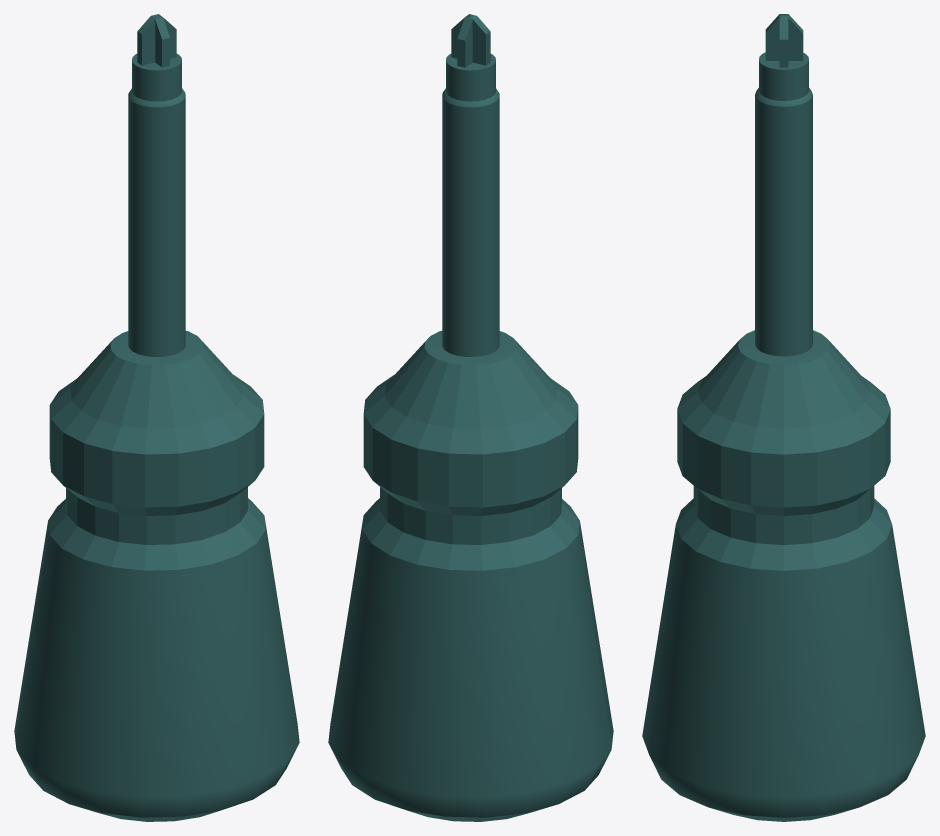
Rendered from mini low.fbx.
3 views of the same model, side by side, from view 1: azimuth 30°, elevation 25°; view 2: azimuth 150°, elevation 25°; view 3: azimuth 270°, elevation 25° (orthographic).
Visible parts, largest first — view 1: mini_01_low, mini_02_low, mini_04_low, mini_03_low; view 2: mini_01_low, mini_02_low, mini_04_low, mini_03_low; view 3: mini_01_low, mini_02_low, mini_04_low, mini_03_low.
Part boxes in pixels (bbox=[...]): mini_01_low: bbox=[14, 330, 299, 821]; mini_02_low: bbox=[128, 88, 185, 356]; mini_04_low: bbox=[132, 54, 181, 101]; mini_03_low: bbox=[137, 14, 176, 67]; mini_01_low: bbox=[328, 330, 613, 821]; mini_02_low: bbox=[442, 88, 499, 356]; mini_04_low: bbox=[446, 54, 495, 101]; mini_03_low: bbox=[451, 14, 490, 67]; mini_01_low: bbox=[642, 330, 925, 821]; mini_02_low: bbox=[755, 88, 812, 356]; mini_04_low: bbox=[759, 52, 808, 100]; mini_03_low: bbox=[765, 14, 803, 67].
Size of the model in its own units: 3.21 by 9.44 by 3.15.
